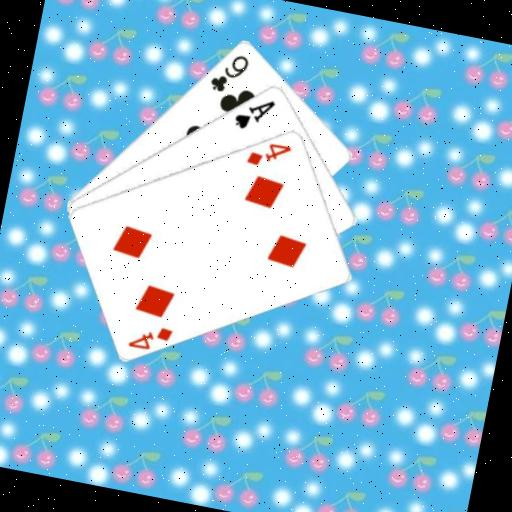4D: (124, 317, 176, 356), (243, 134, 294, 173)
9C: (205, 46, 253, 98)
AS: (230, 90, 279, 136)
